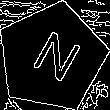N_SW: (21, 26, 82, 89)
